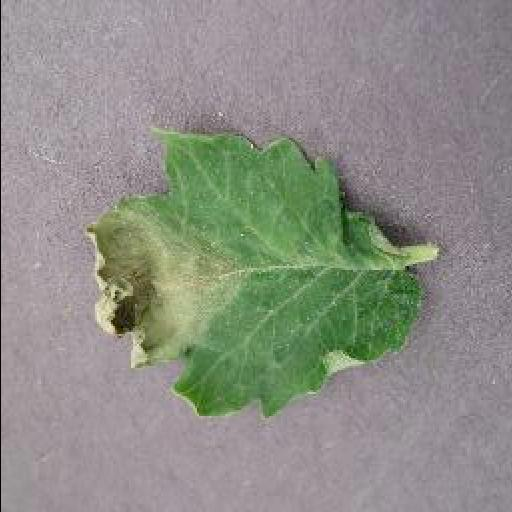disease_tomato: (81, 129, 423, 419)
